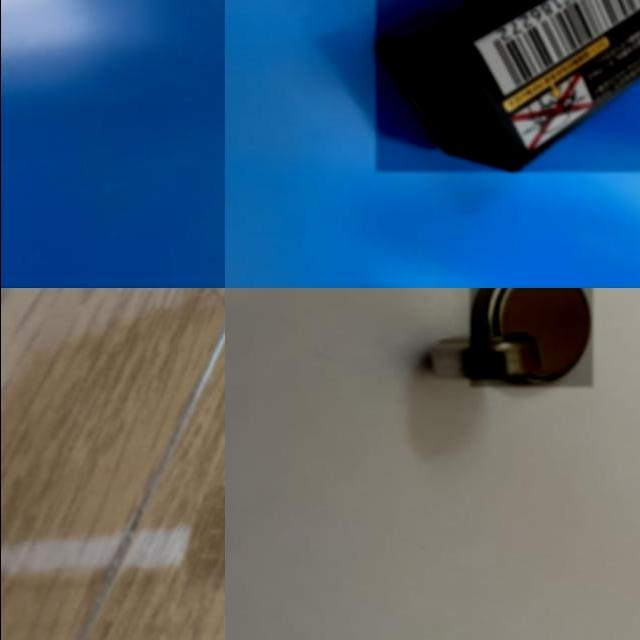9V: (375, 0, 640, 172)
